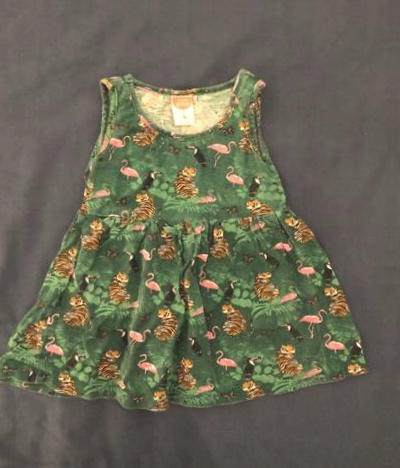Dress: (0, 61, 391, 414), (392, 68, 400, 421)
